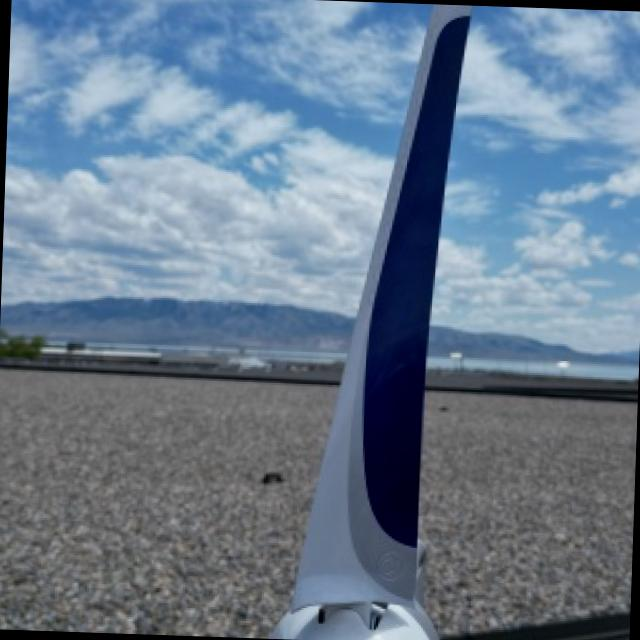healthy: (273, 4, 472, 640)
